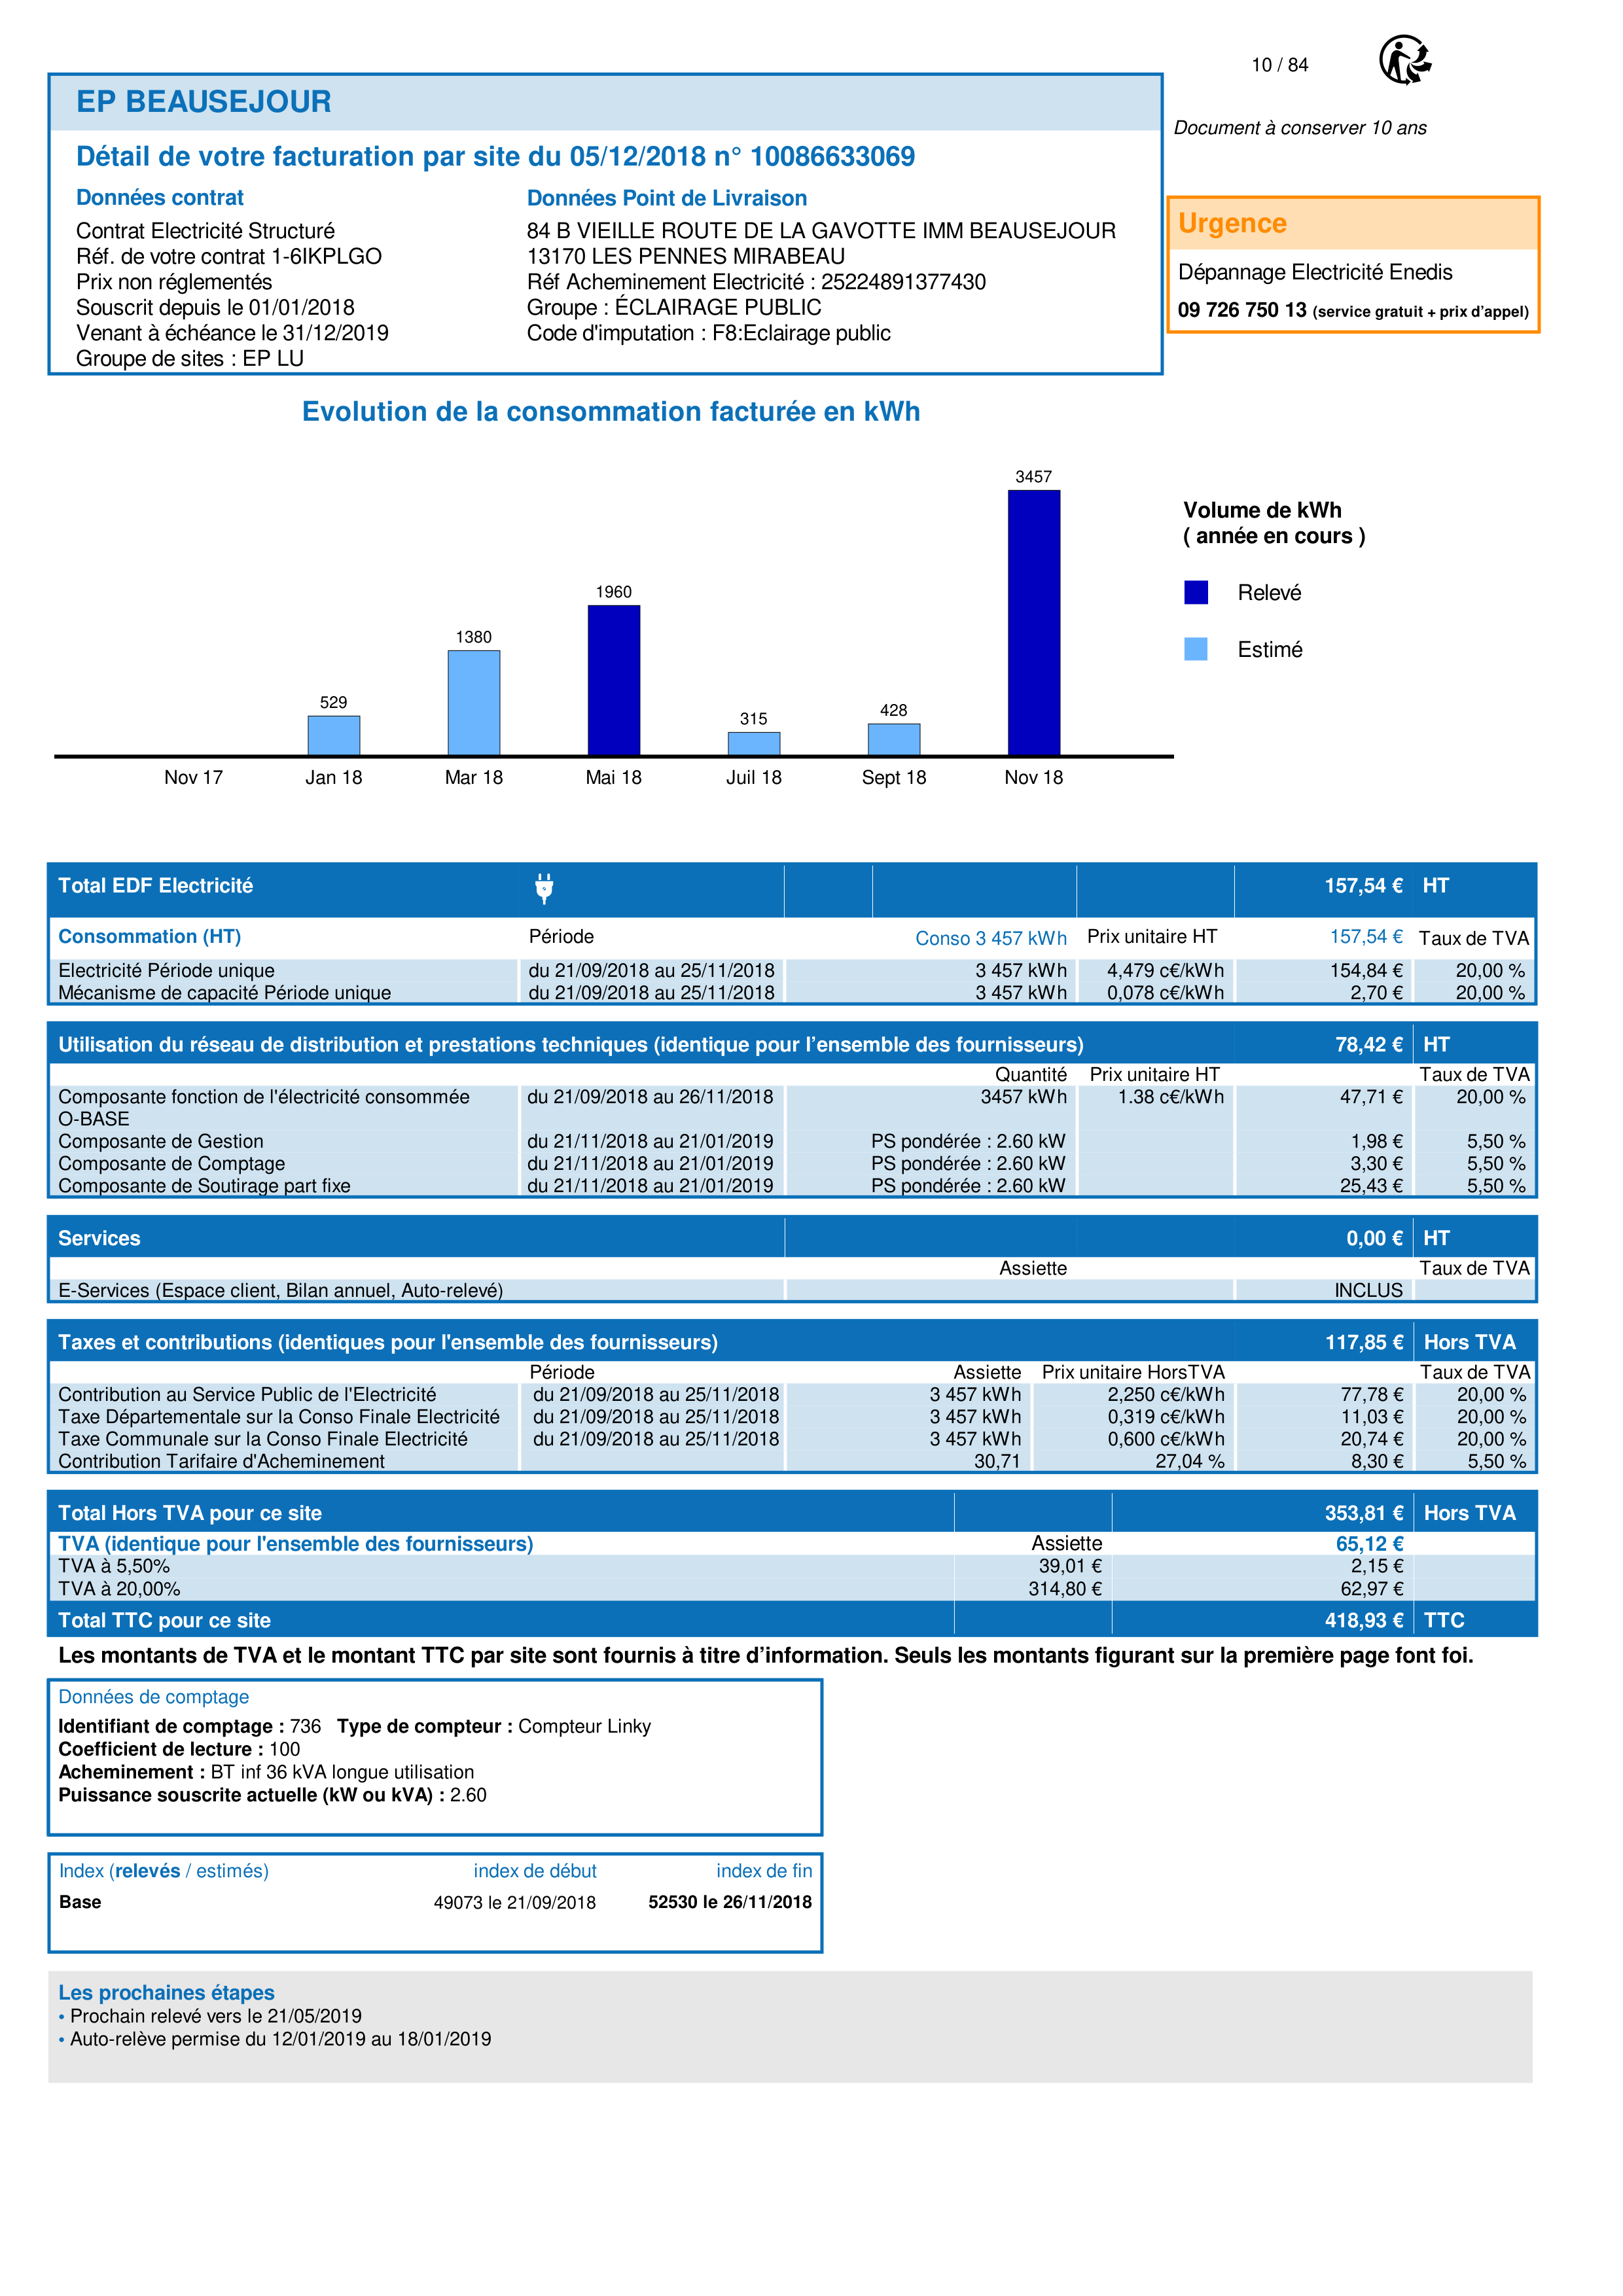area: (48, 1852, 823, 1952)
type_indicator: (49, 1856, 287, 1887)
